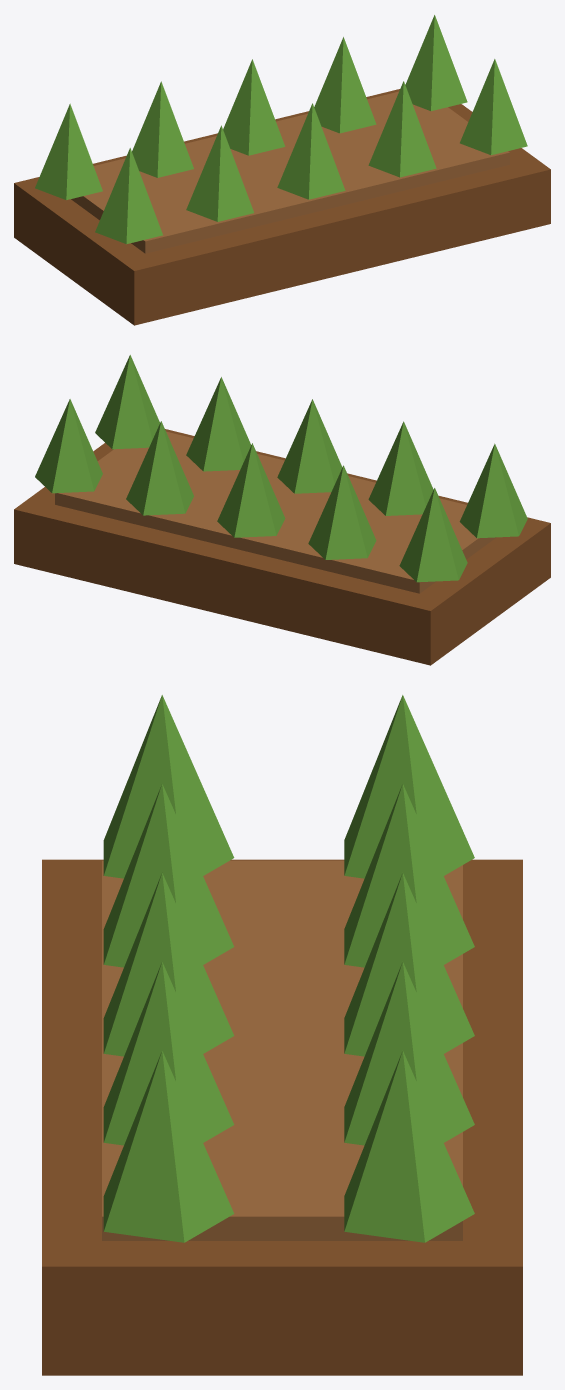
Rendered from herb_garden_bed.glb.
The picture shows the model from 3 angles, top to bottom: view 1: azimuth 30°, elevation 25°; view 2: azimuth 150°, elevation 25°; view 3: azimuth 270°, elevation 25°; orthographic projection. The views are drawn at different scales.
Parts seen in each view (by area): view 1: herb_garden_bed; view 2: herb_garden_bed; view 3: herb_garden_bed.
Boxes of the visible parts, left/top/right/bottom form: herb_garden_bed: left=14, top=15, right=550, bottom=325; herb_garden_bed: left=14, top=355, right=550, bottom=665; herb_garden_bed: left=42, top=695, right=522, bottom=1375.
Bounding box in the file's own units: 1.63 × 0.55 × 0.8.
